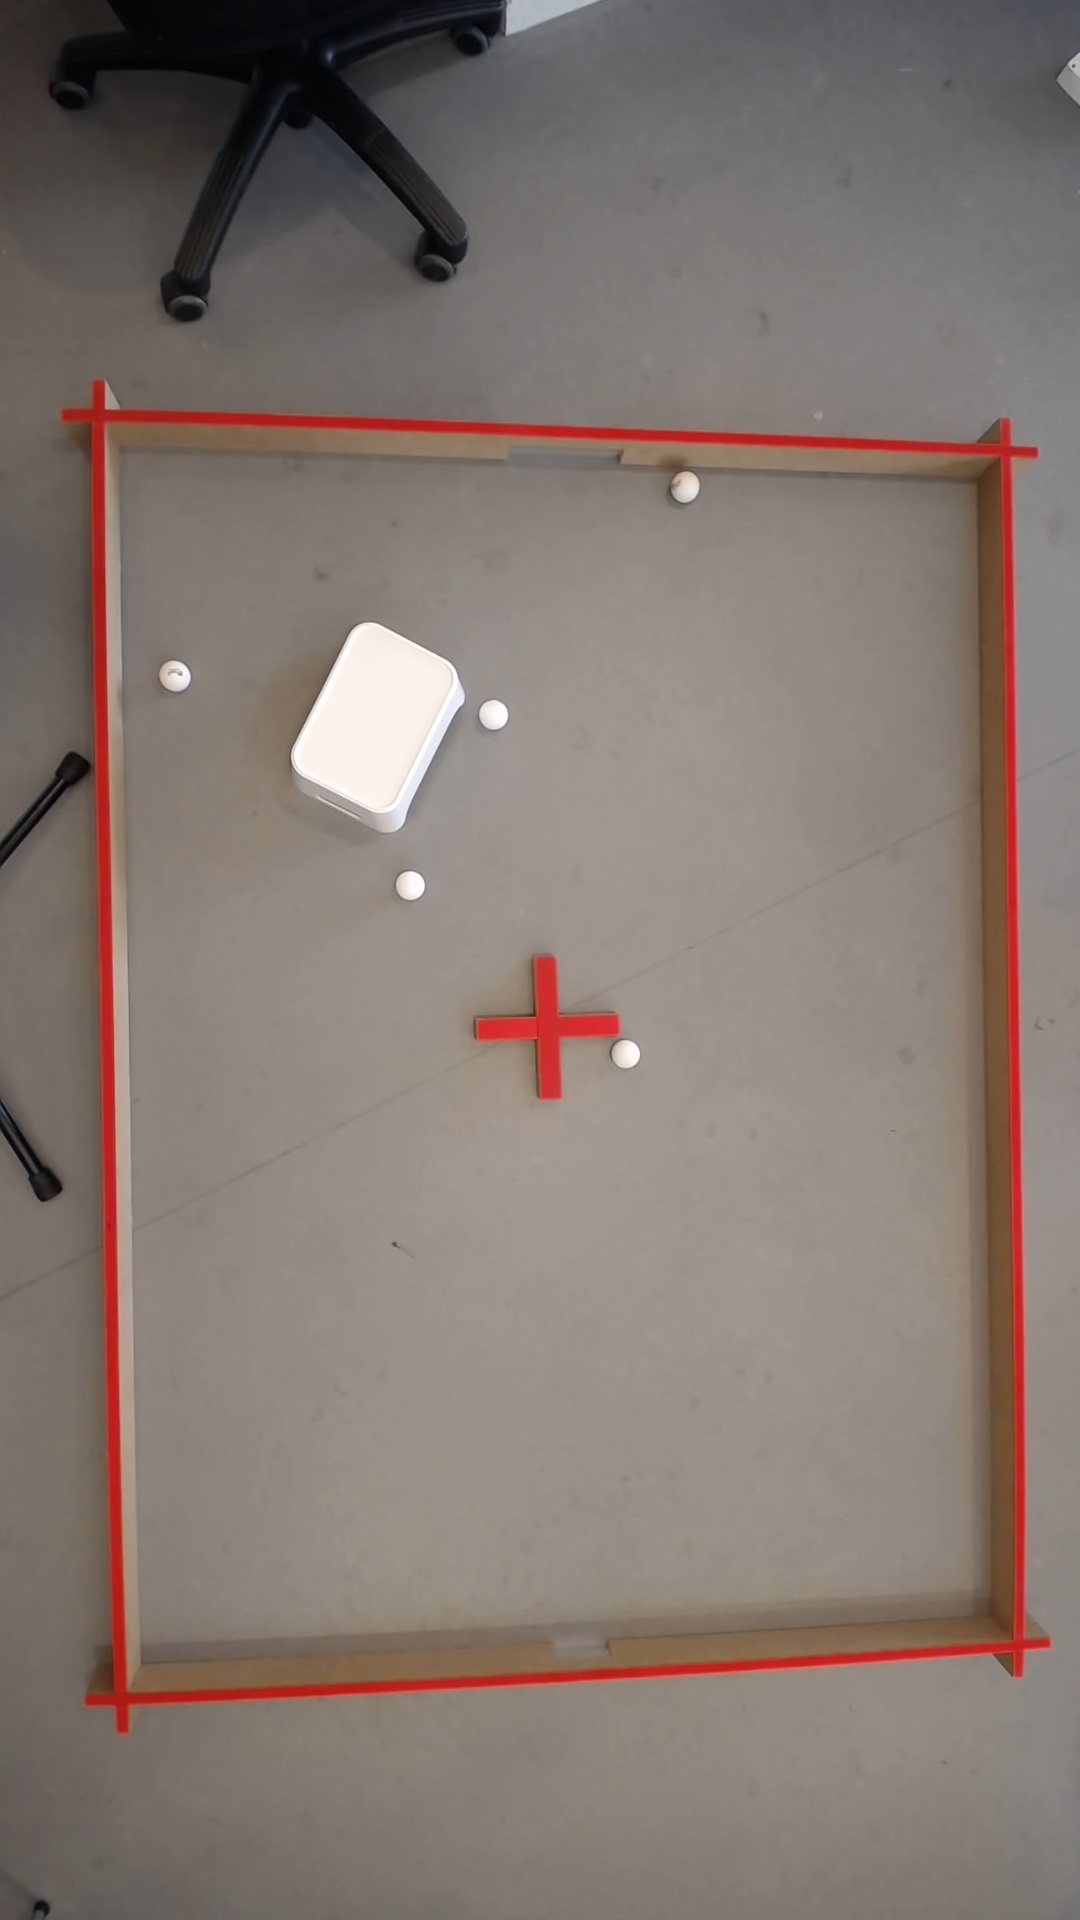balls: (280, 613, 477, 829), (156, 655, 194, 694), (475, 695, 512, 732), (393, 866, 429, 903), (609, 1035, 644, 1071)
car: (674, 469, 703, 504)
